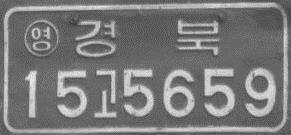1: (20, 68, 41, 119)
5: (201, 66, 236, 119), (55, 67, 89, 119), (121, 66, 155, 117)
6: (162, 68, 196, 118)
9: (242, 66, 277, 117)
경북_D: (73, 18, 221, 60)
고: (91, 67, 119, 120)
영: (23, 18, 60, 57)
